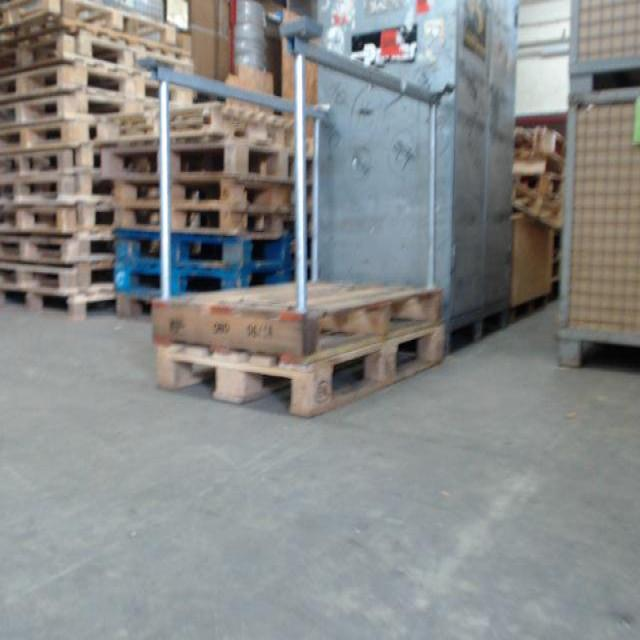pallet: (155, 318, 445, 421), (150, 282, 446, 367), (0, 6, 177, 46), (112, 177, 291, 211), (1, 73, 190, 103), (107, 149, 296, 179), (121, 263, 291, 295), (119, 232, 291, 263), (0, 49, 194, 72), (3, 103, 166, 127), (119, 211, 291, 232), (2, 129, 151, 152), (0, 209, 111, 238), (1, 268, 111, 296), (2, 179, 111, 207), (3, 152, 101, 183), (2, 240, 113, 265), (4, 299, 115, 323), (512, 183, 562, 235), (121, 295, 159, 319)
stillage: (547, 82, 640, 369), (553, 0, 639, 95)
